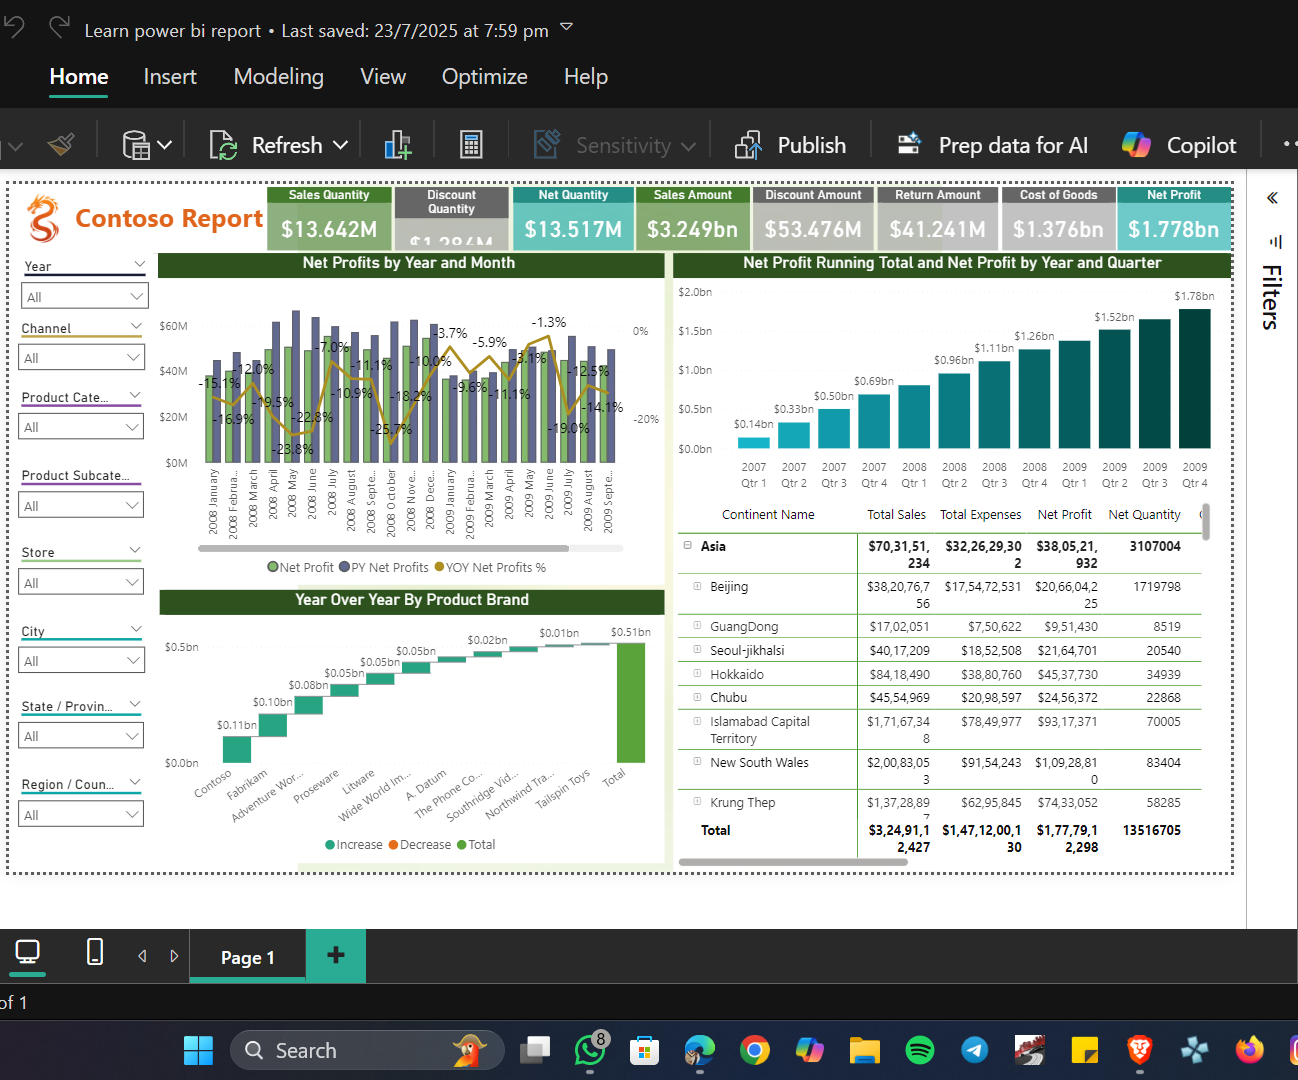

This screenshot's page, from the dashboard's own definition file:
{"tool":"powerbi","page":{"name":"Page 1","canvas":[1280,720],"ordinal":0},"visuals":[{"type":"pivotTable","fields":{"Values":["DAX Measures.Total Sales","DAX Measures.Total Expenses","DAX Measures.Net Profit","DAX Measures.Net Quantity","DAX Measures.Order Count","DAX Measures.Average Order Amount","DAX Measures.YOY Net Profits","DAX Measures.YOY Net Profits %"],"Rows":["Geography.Geography Heirarchy.Continent Name","Geography.Geography Heirarchy.State Province Name","Geography.Geography Heirarchy.City Name","Geography.Geography Heirarchy.Region Country Name","Store.Store Name"]},"box":[695,328.8,567.5,391.2],"z":0},{"type":"lineClusteredColumnComboChart","title":"Net Profits by Year and Month","fields":{"Y":["DAX Measures.Net Profit","DAX Measures.PY Net Profits"],"Y2":["DAX Measures.YOY Net Profits %"],"Category":["Calender.Date.Variation.Date Hierarchy.Year","Calender.Date.Variation.Date Hierarchy.Month"]},"box":[151.2,72.5,535,347.5],"z":1000},{"type":"clusteredColumnChart","fields":{"Y":["DAX Measures.Net Profit Running Total"],"Category":["Calender.Date.Variation.Date Hierarchy.Year","Calender.Date.Variation.Date Hierarchy.Quarter","Calender.Date.Variation.Date Hierarchy.Month","Calender.Date.Variation.Date Hierarchy.Day"]},"box":[695,72.5,585,256.2],"z":2000},{"type":"waterfallChart","title":" Year Over Year By Product Brand","fields":{"Category":["Product Master.Brand Name"],"Y":["DAX Measures.YOY Net Profits"]},"box":[157.5,425,528.8,286.2],"z":3000},{"type":"textbox","box":[63.8,11.2,228.8,46.2],"z":4000},{"type":"image","box":[0,0,72.9,72.9],"z":5000},{"type":"cardVisual","title":"Net Profit","fields":{"Data":["DAX Measures.Net Profit"]},"box":[1161.2,3.8,118.8,66.2],"z":6000},{"type":"cardVisual","title":"Sales Amount","fields":{"Data":["DAX Measures.Total Sales"]},"box":[657.5,2.5,118.8,66.2],"z":7000},{"type":"cardVisual","title":"Discount Amount","fields":{"Data":["DAX Measures.Discount Amount"]},"box":[780,2.5,126.2,66.2],"z":8000},{"type":"cardVisual","title":"Return Amount","fields":{"Data":["DAX Measures.Return Amount"]},"box":[910,3.8,126.2,66.2],"z":9000},{"type":"cardVisual","title":"Cost of Goods","fields":{"Data":["DAX Measures.Total Cost"]},"box":[1040,3.8,118.8,66.2],"z":10000},{"type":"cardVisual","title":"Sales Quantity","fields":{"Data":["DAX Measures.Sales Quantity"]},"box":[271.2,2.5,130,66.2],"z":11000},{"type":"cardVisual","title":"Net Quantity","fields":{"Data":["DAX Measures.Net Quantity"]},"box":[527.5,2.5,126.2,66.2],"z":12000},{"type":"cardVisual","title":"Discount Quantity","fields":{"Data":["DAX Measures.Discount Quantity"]},"box":[405,2.5,118.8,66.2],"z":13000},{"type":"slicer","fields":{"Values":["Product Master.Product Subcategory Name"]},"box":[0,291.2,151.2,72.5],"z":14000},{"type":"slicer","fields":{"Values":["Product Master.Product Category Name"]},"box":[0,210,151.2,72.5],"z":15000},{"type":"slicer","fields":{"Values":["Channel.Channel Name"]},"box":[0,137.5,152.5,72.5],"z":16000},{"type":"slicer","fields":{"Values":["Geography.Region Country Name"]},"box":[0,615,151.2,72.5],"z":17000},{"type":"slicer","fields":{"Values":["Geography.State Province Name"]},"box":[0,533.8,151.2,72.5],"z":18000},{"type":"slicer","fields":{"Values":["Geography.City Name"]},"box":[0,453.8,152.5,72.5],"z":19000},{"type":"slicer","fields":{"Values":["Store.Store Name"]},"box":[0,372.5,151.2,72.5],"z":20000},{"type":"slicer","fields":{"Values":["Calender.Date.Variation.Date Hierarchy.Year"]},"box":[2.9,72.9,152.9,72.9],"z":21000}]}

Visuals, with their boxes on the page's 1280x720 design canvas (x1, y1, x2, y2). These are canvas units, not pixel positions in the 1298x1080 screenshot, which may show the page scaled, cropped or inside an application window:
pivotTable - DAX Measures.Total Sales x DAX Measures.Total Expenses: rect(695, 329, 1262, 720)
"Net Profits by Year and Month" lineClusteredColumnComboChart: rect(151, 72, 686, 420)
clusteredColumnChart - DAX Measures.Net Profit Running Total x Calender.Date.Variation.Date Hierarchy.Year: rect(695, 72, 1280, 329)
" Year Over Year By Product Brand" waterfallChart: rect(158, 425, 686, 711)
textbox: rect(64, 11, 293, 57)
image: rect(0, 0, 73, 73)
"Net Profit" cardVisual: rect(1161, 4, 1280, 70)
"Sales Amount" cardVisual: rect(658, 2, 776, 69)
"Discount Amount" cardVisual: rect(780, 2, 906, 69)
"Return Amount" cardVisual: rect(910, 4, 1036, 70)
"Cost of Goods" cardVisual: rect(1040, 4, 1159, 70)
"Sales Quantity" cardVisual: rect(271, 2, 401, 69)
"Net Quantity" cardVisual: rect(528, 2, 654, 69)
"Discount Quantity" cardVisual: rect(405, 2, 524, 69)
slicer - Product Master.Product Subcategory Name: rect(0, 291, 151, 364)
slicer - Product Master.Product Category Name: rect(0, 210, 151, 282)
slicer - Channel.Channel Name: rect(0, 138, 152, 210)
slicer - Geography.Region Country Name: rect(0, 615, 151, 688)
slicer - Geography.State Province Name: rect(0, 534, 151, 606)
slicer - Geography.City Name: rect(0, 454, 152, 526)
slicer - Store.Store Name: rect(0, 372, 151, 445)
slicer - Calender.Date.Variation.Date Hierarchy.Year: rect(3, 73, 156, 146)
